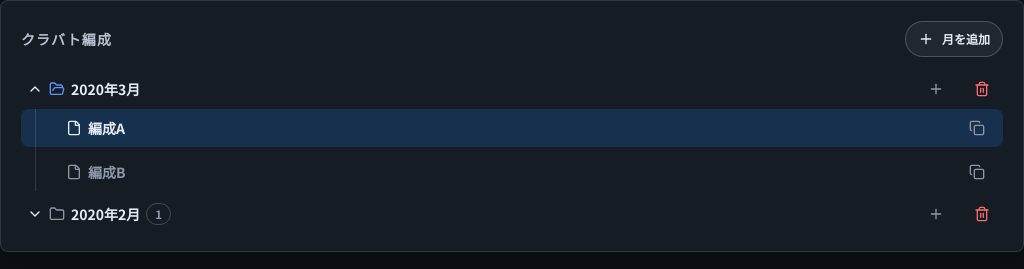
Test case: ClanBattleSidebar（月フォルダの折りたたみ） › 月見出しを押すたびに展開と折りたたみが切り替わる
Click the button "2020年3月" at [106, 89], box x1=21 y1=73 x2=911 y2=105
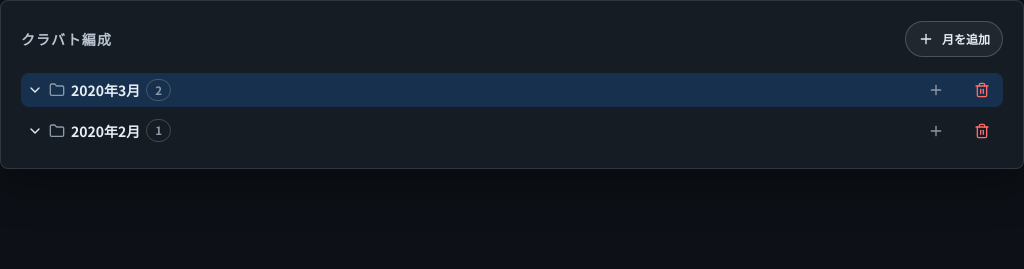
Expected: the button "編成Aをコピー" is gone
Click the button "2020年3月 2" at [106, 90], box x1=21 y1=73 x2=911 y2=107
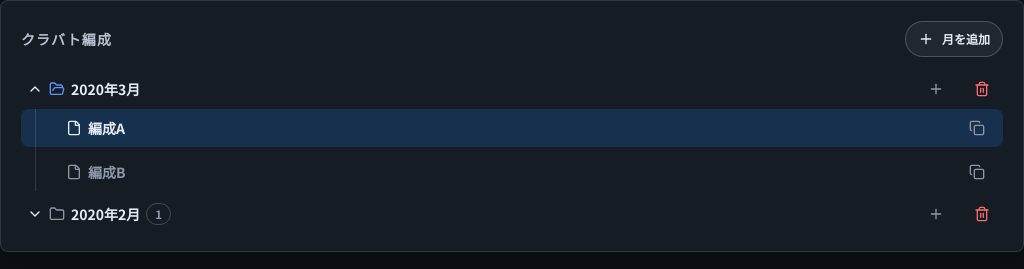
Expected: the button named "編成Aをコピー" is shown, x1=956 y1=113 x2=998 y2=143
